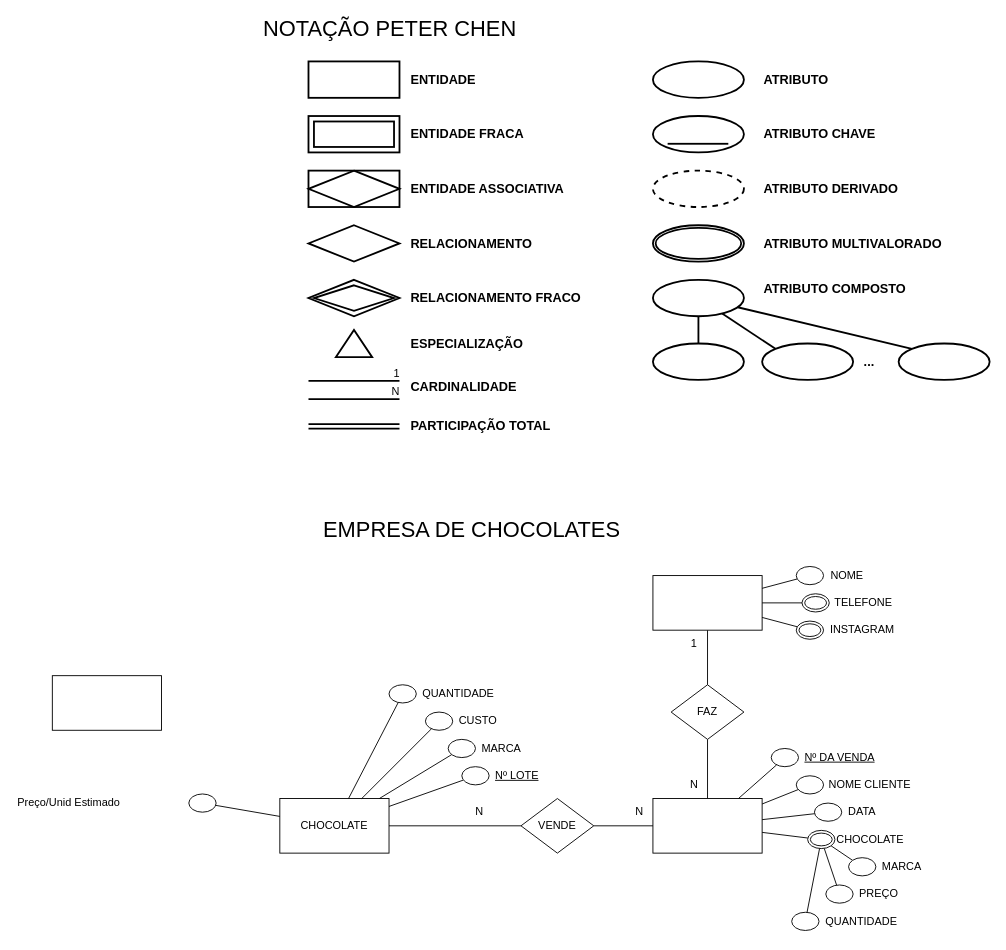
Some shapes in this 1006 by 950 pixel diagram are drawn without their labels. The shapes that lost their labels are listed below. From the top down, each one's centre as x and y in pixels, then its label:
At (707,602): "CLIENTE".
At (707,825): "PEDIDO".
